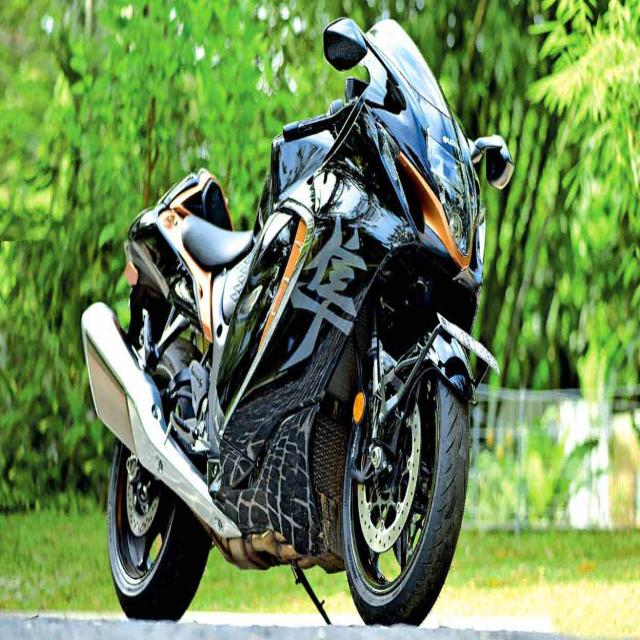Bike: (80, 18, 513, 628)
